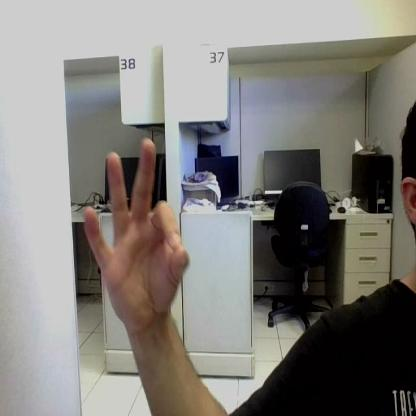F: (86, 138, 188, 322)
